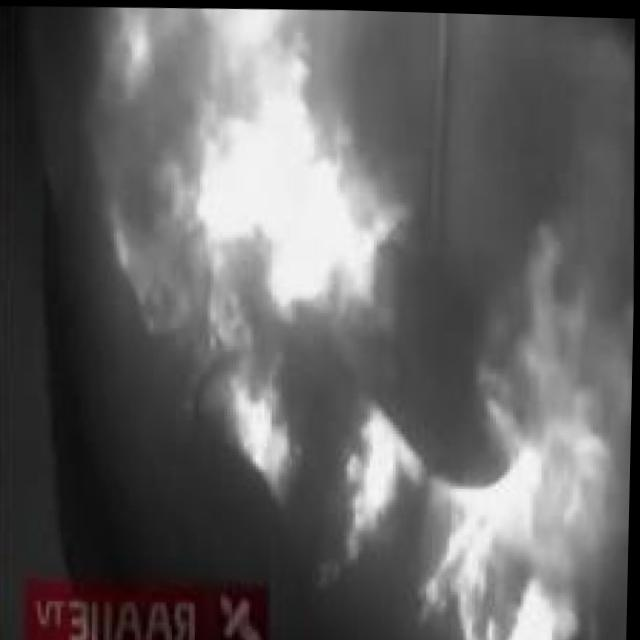fire: (83, 4, 395, 508), (327, 216, 636, 640)
